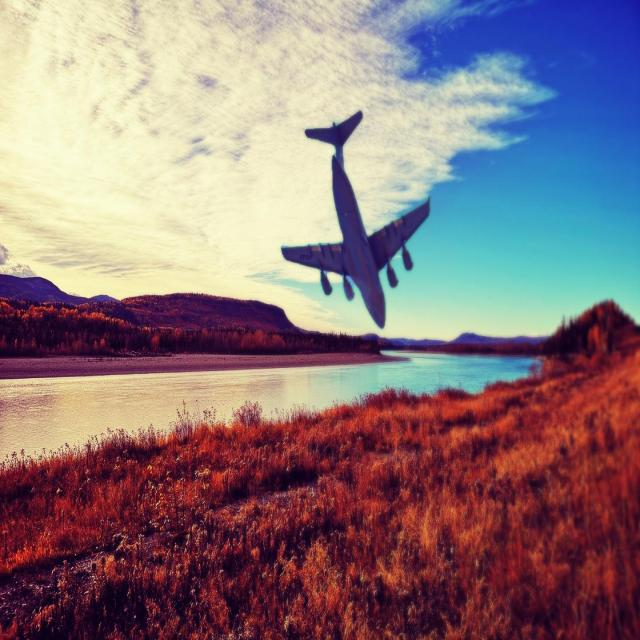airplane: (280, 110, 430, 328)
